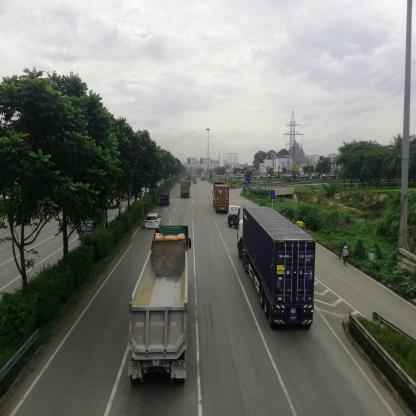car: (146, 213, 162, 229)
container: (241, 210, 314, 331), (216, 183, 230, 213)
truck: (133, 227, 190, 384), (229, 207, 241, 229), (182, 183, 191, 199), (160, 194, 171, 206)
